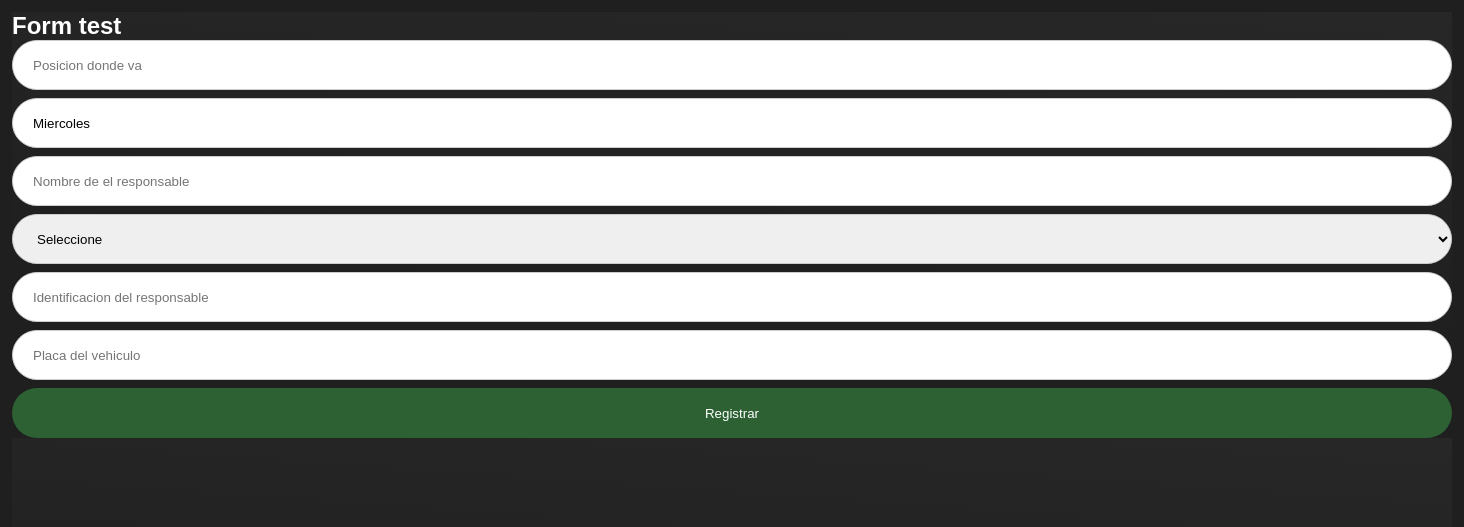
FormCrearVehicles test › should fail on submit four fields missing
The image size is (1464, 527).
Type "M1" into the field named "slot".
click(732, 65); type("M1")  # box [12,40,1452,90]
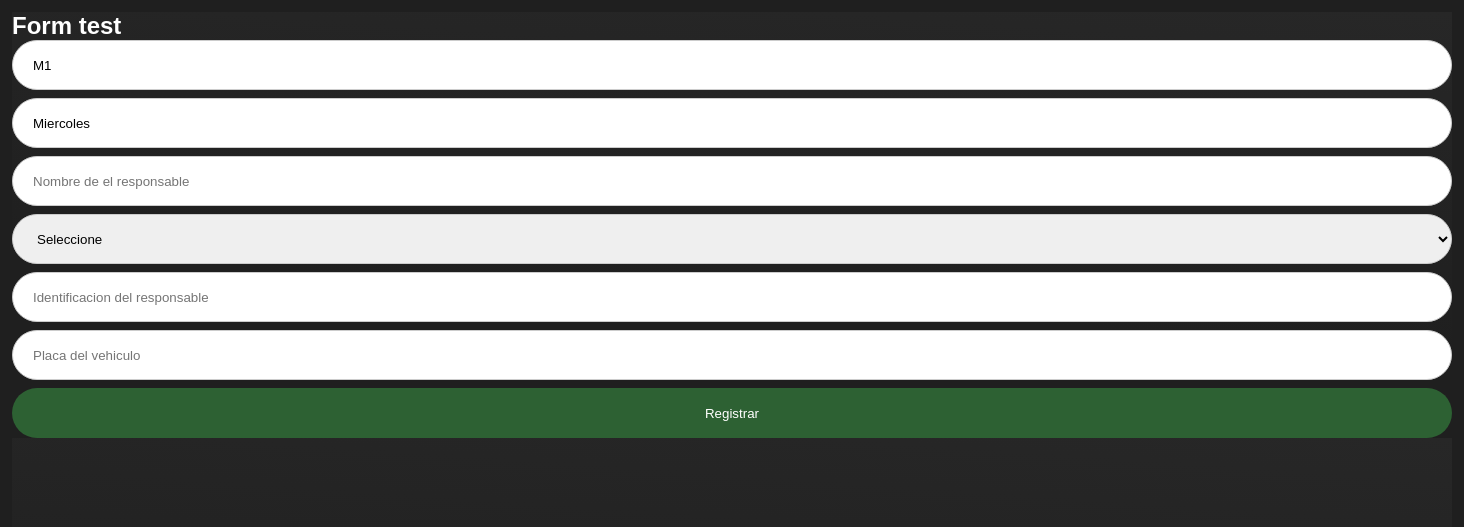
Replace the text in the 2nd field named "day" with "Lunes" at (732, 123), box [12,98,1452,148]
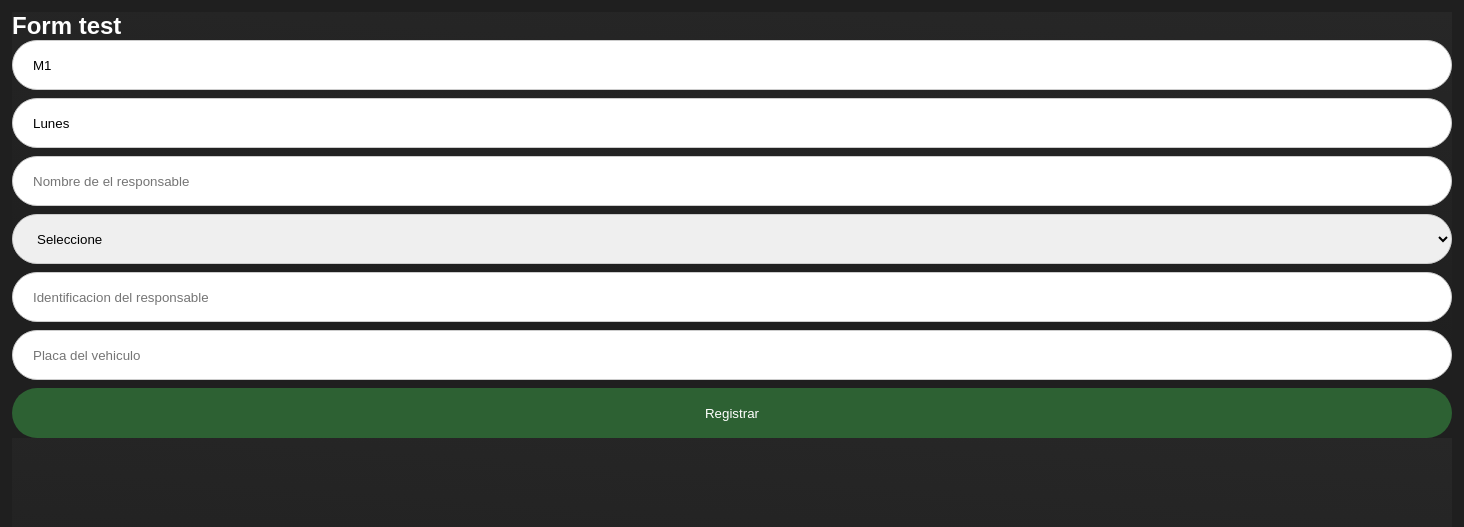
Click the submit button.
click(732, 413)  # box [12,388,1452,438]
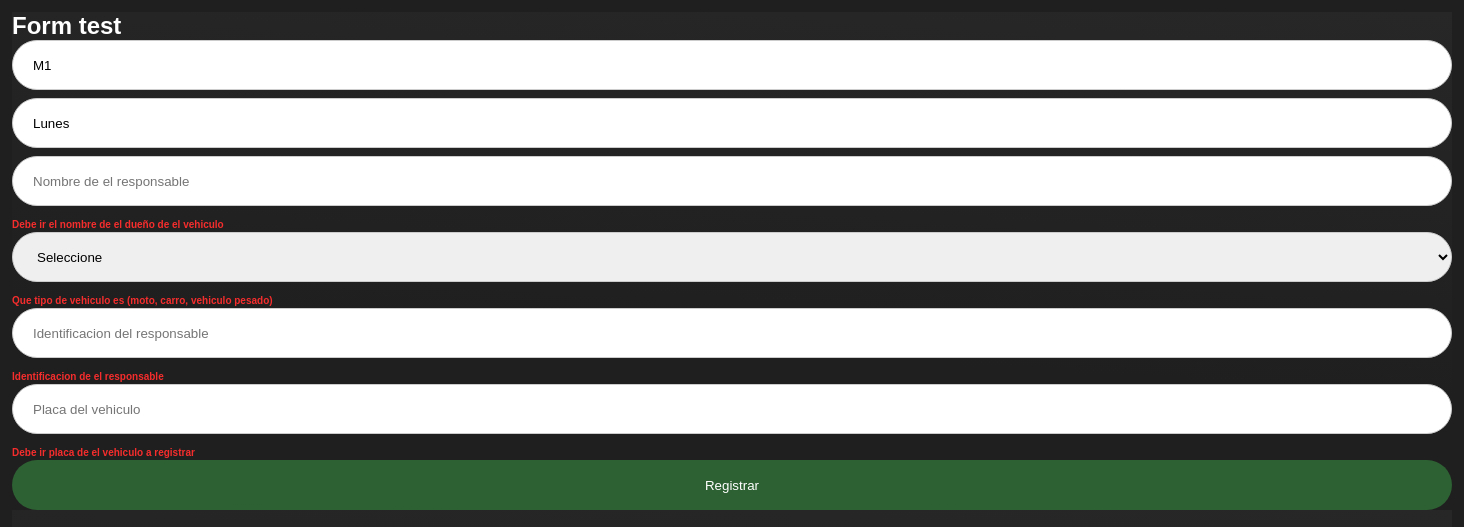
Expected: the text "Debe ir el nombre de el dueño de el vehiculo" is shown, [12,219,224,230]
Expected: the text "Que tipo de vehiculo es (moto, carro, vehiculo pesado)" is shown, [12,295,273,306]
Expected: the text "Identificacion de el responsable" is shown, [12,371,164,382]
